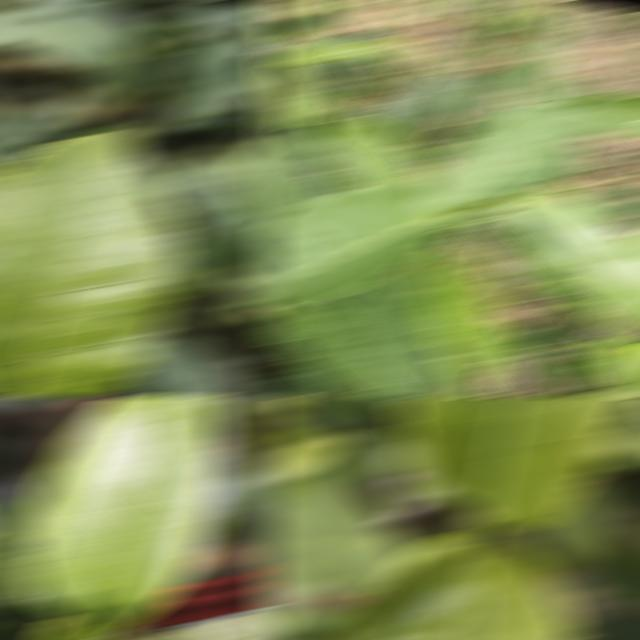Leaf: (22, 397, 231, 632), (0, 133, 187, 395), (393, 397, 636, 530), (260, 190, 458, 306), (272, 455, 410, 600), (419, 102, 596, 210), (498, 197, 640, 331), (432, 534, 584, 639), (331, 547, 484, 639), (342, 273, 446, 395), (418, 247, 503, 395), (0, 16, 149, 93), (305, 113, 439, 197), (170, 153, 270, 263), (158, 34, 270, 132), (274, 304, 386, 395), (526, 484, 626, 560), (260, 486, 309, 636), (260, 116, 329, 215), (131, 337, 244, 395), (10, 1, 153, 44), (385, 70, 466, 142), (230, 141, 276, 237), (260, 437, 343, 487), (485, 322, 546, 386), (213, 469, 276, 527), (512, 39, 567, 104), (169, 240, 233, 291), (565, 93, 640, 136), (490, 237, 568, 278), (217, 267, 276, 319), (581, 334, 640, 385), (342, 55, 409, 96), (445, 86, 497, 136), (267, 67, 310, 126), (343, 39, 423, 67), (577, 357, 636, 393), (468, 74, 511, 123), (309, 397, 392, 422), (538, 301, 600, 333), (285, 95, 346, 127), (582, 183, 634, 220), (278, 41, 360, 63), (536, 354, 580, 395), (447, 30, 487, 75), (543, 10, 585, 51), (34, 617, 112, 639), (310, 148, 358, 183), (309, 1, 358, 35), (359, 99, 406, 132), (501, 13, 556, 39), (484, 1, 524, 36), (541, 276, 593, 302), (557, 353, 589, 391), (260, 1, 290, 38), (392, 1, 432, 26), (483, 70, 530, 90), (547, 81, 594, 99), (260, 50, 285, 78), (533, 1, 568, 17), (423, 386, 477, 395), (617, 202, 640, 209)
